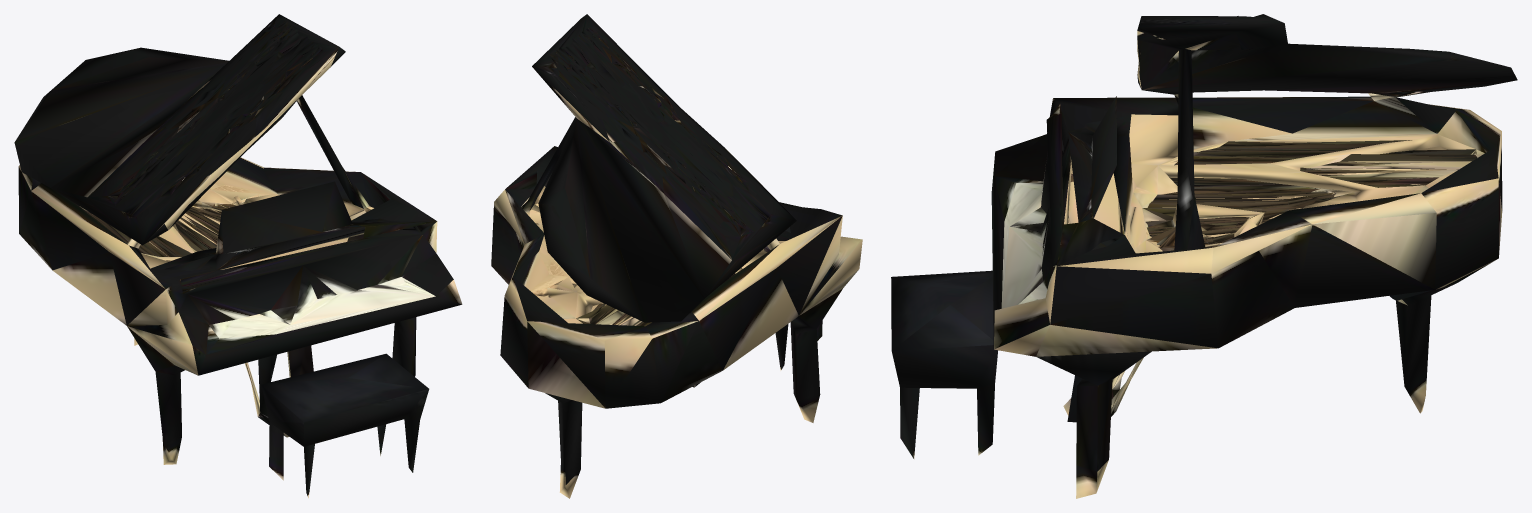
Rendered from piano.glb.
3 views of the same model, side by side, from view 1: azimuth 30°, elevation 25°; view 2: azimuth 150°, elevation 25°; view 3: azimuth 270°, elevation 25° (orthographic). The views are drawn at different scales.
Parts seen in each view (by area): view 1: Mesh_0; view 2: Mesh_0; view 3: Mesh_0.
Boxes of the visible parts, bbox=[...] form: Mesh_0: bbox=[14, 14, 462, 498]; Mesh_0: bbox=[491, 14, 862, 498]; Mesh_0: bbox=[891, 14, 1517, 498].
Bounding box in the file's own units: 1.2 × 1.5 × 1.88.
1 material, 1 textured.
